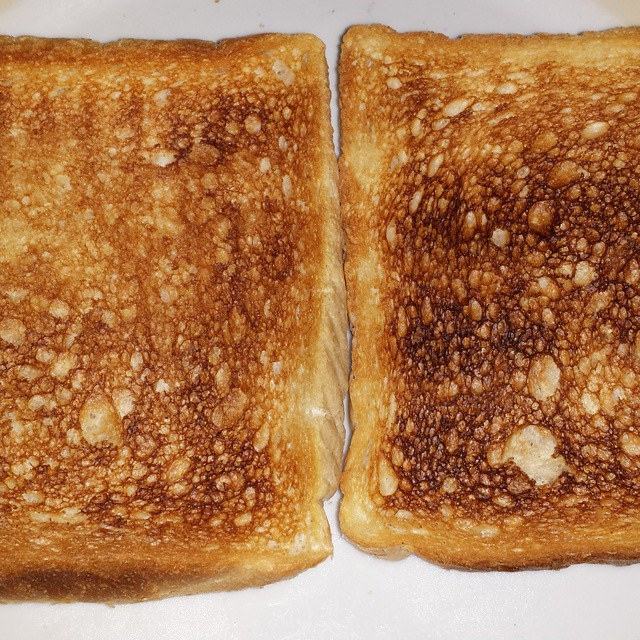slice of bread: (1, 5, 352, 606), (328, 24, 640, 565)
